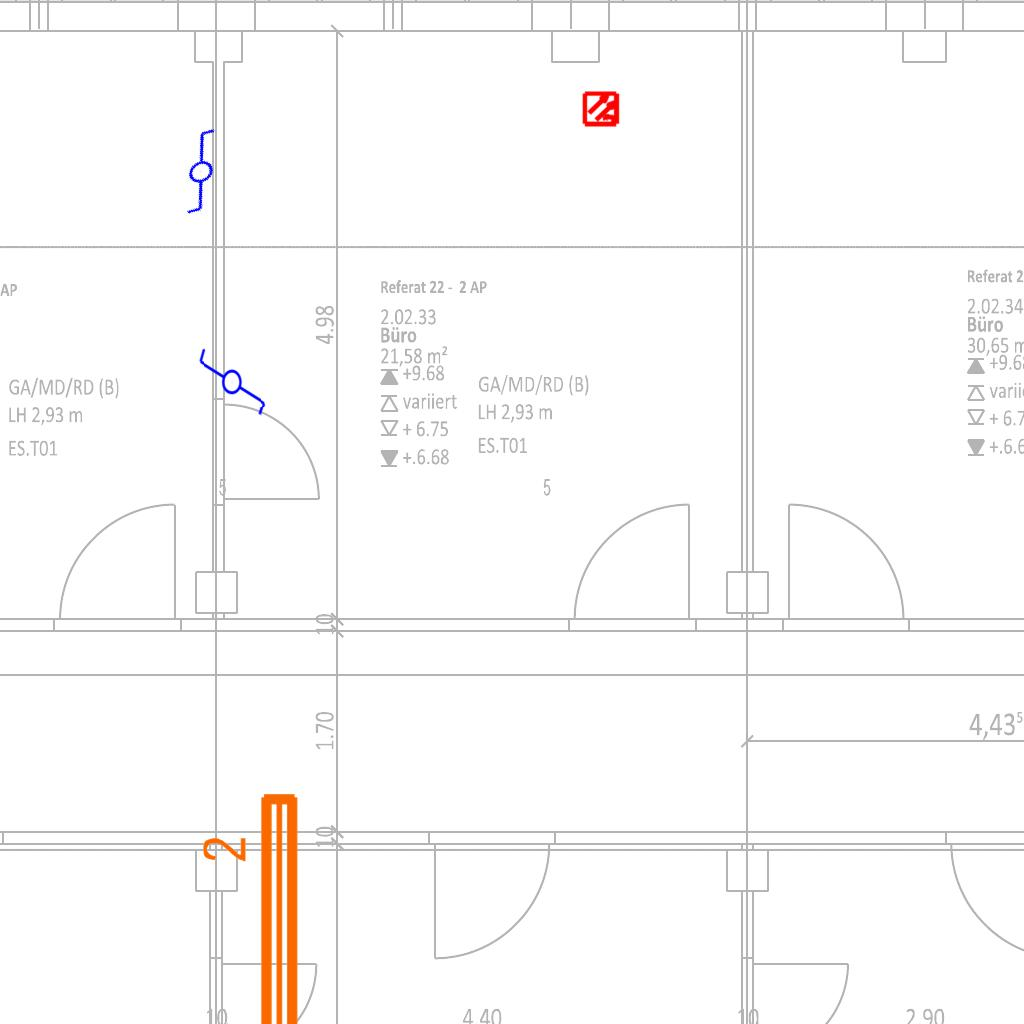Ambulanz_Pendelleuchte_LED: (198, 785, 310, 1024)
OT_Multisensormelder_(Kombination_RMO_WMD): (574, 81, 630, 137)
Wechselschalter: (145, 122, 249, 224), (196, 338, 270, 418)
